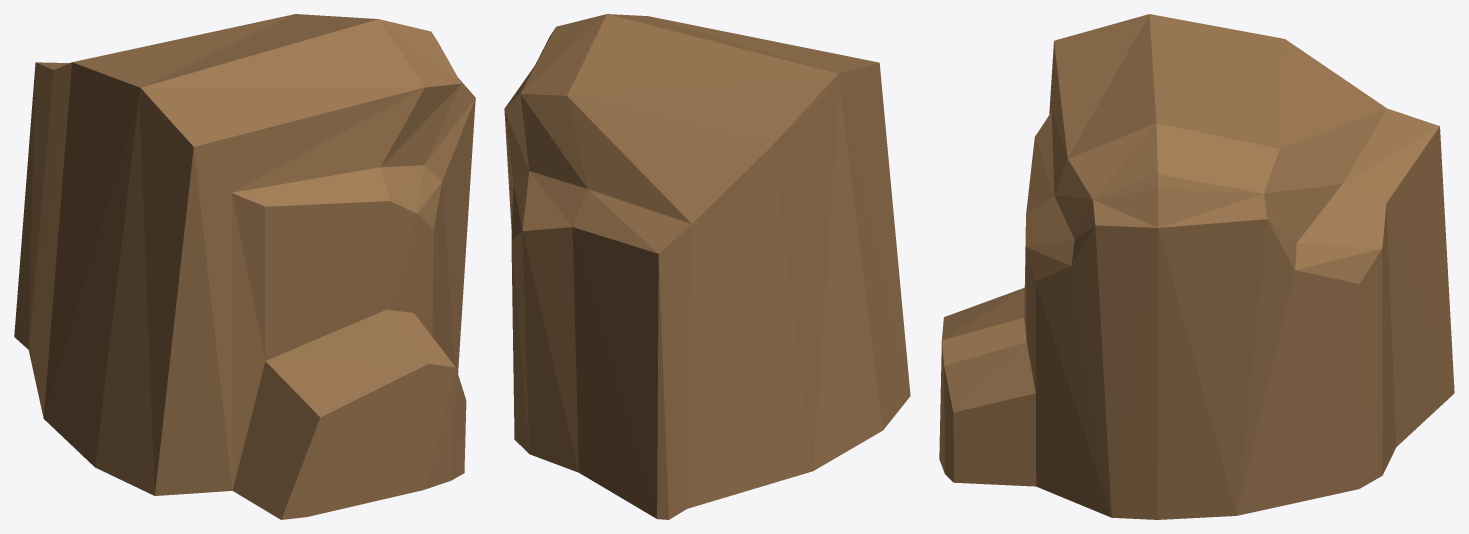
File: boulder_desert_2.glb
3 renders of one model, left to right at view 1: azimuth 30°, elevation 25°; view 2: azimuth 150°, elevation 25°; view 3: azimuth 270°, elevation 25°, orthographic. The views are drawn at different scales.
Parts seen in each view (by area): view 1: lod0; view 2: lod0; view 3: lod0.
Part boxes in pixels (box(x1,y1,x2,y2)): lod0: box(14, 14, 475, 519); lod0: box(504, 14, 910, 519); lod0: box(939, 14, 1454, 519).
Size of what is drawn, in the model's own units: 3.29 by 3.25 by 4.12.
